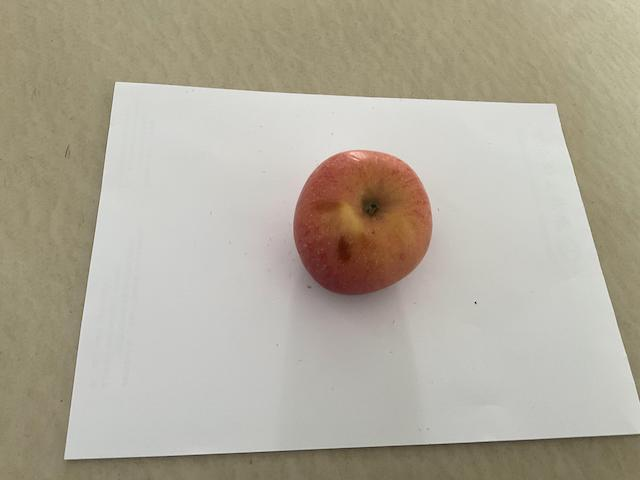apple: (291, 140, 437, 298)
